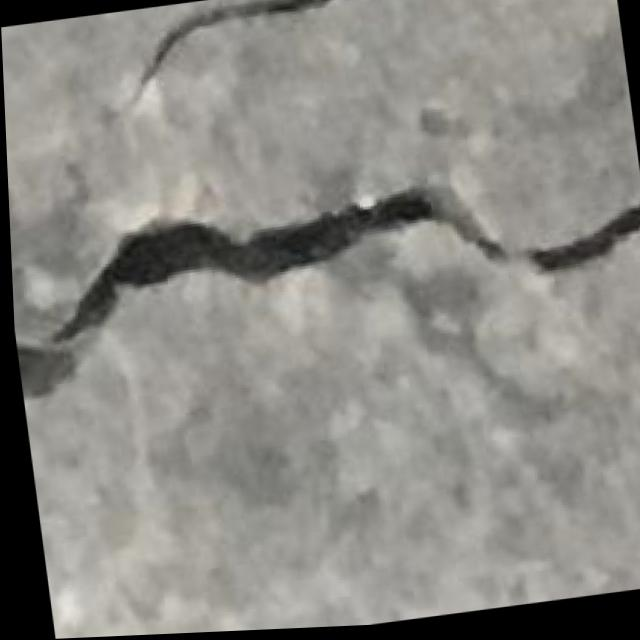Crack: (8, 153, 640, 413), (114, 0, 379, 108)
